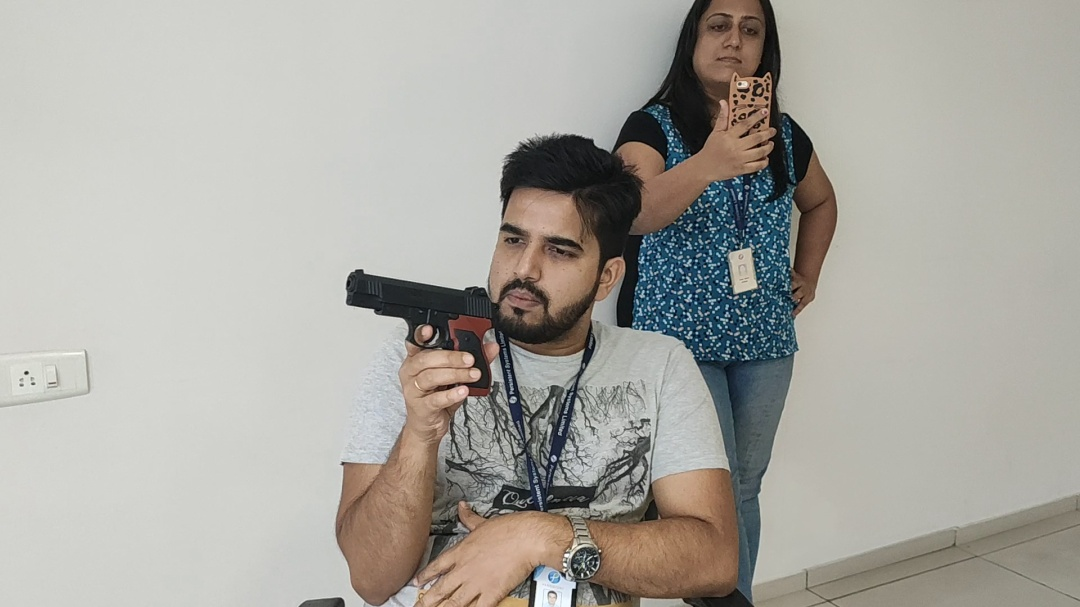gun: (345, 269, 500, 397)
